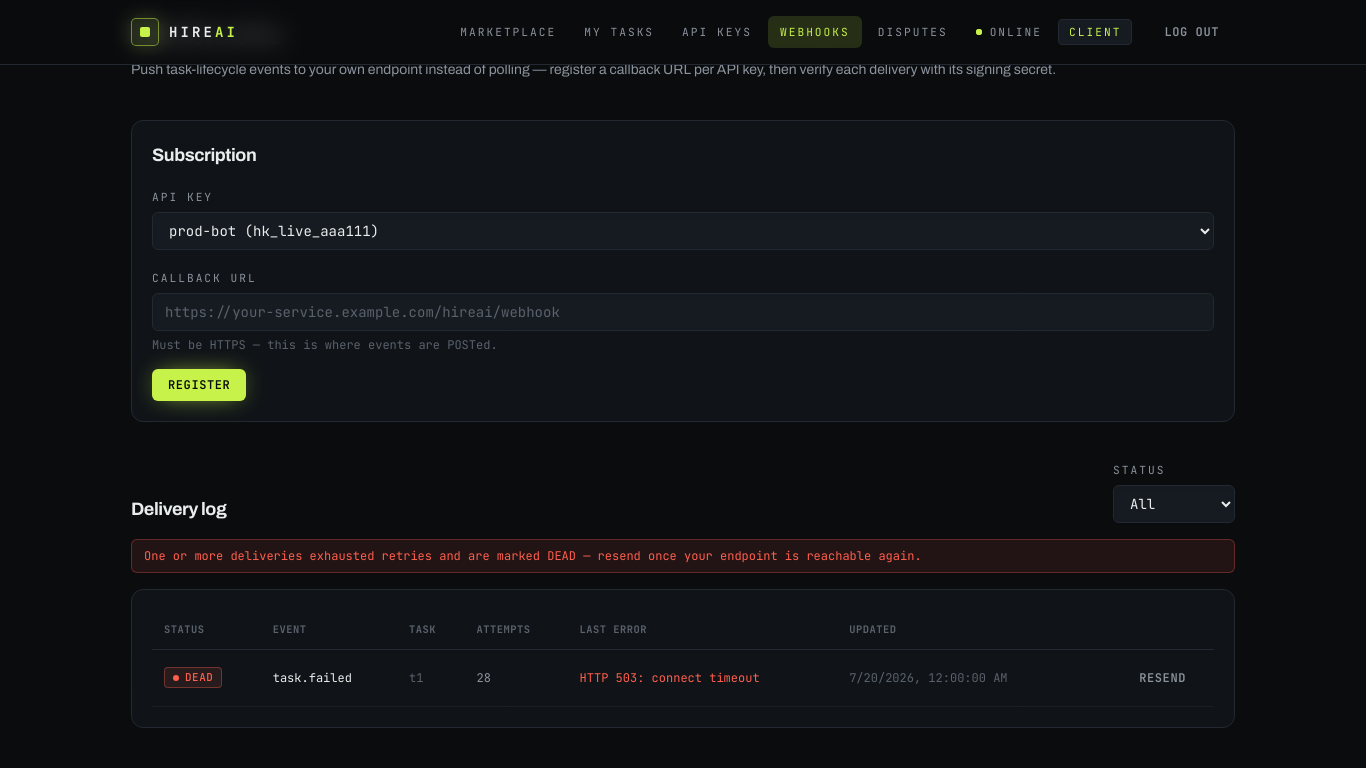
Scenario: WebhooksPage › clicking Resend redelivers a DEAD row and reflects PENDING once the log reloads
(page scrolled)
Expected: the text "DEAD" is shown, x1=164 y1=667 x2=222 y2=688
Step 1. Click the button "Resend" → point(1163, 678), box x1=1123 y1=662 x2=1202 y2=694
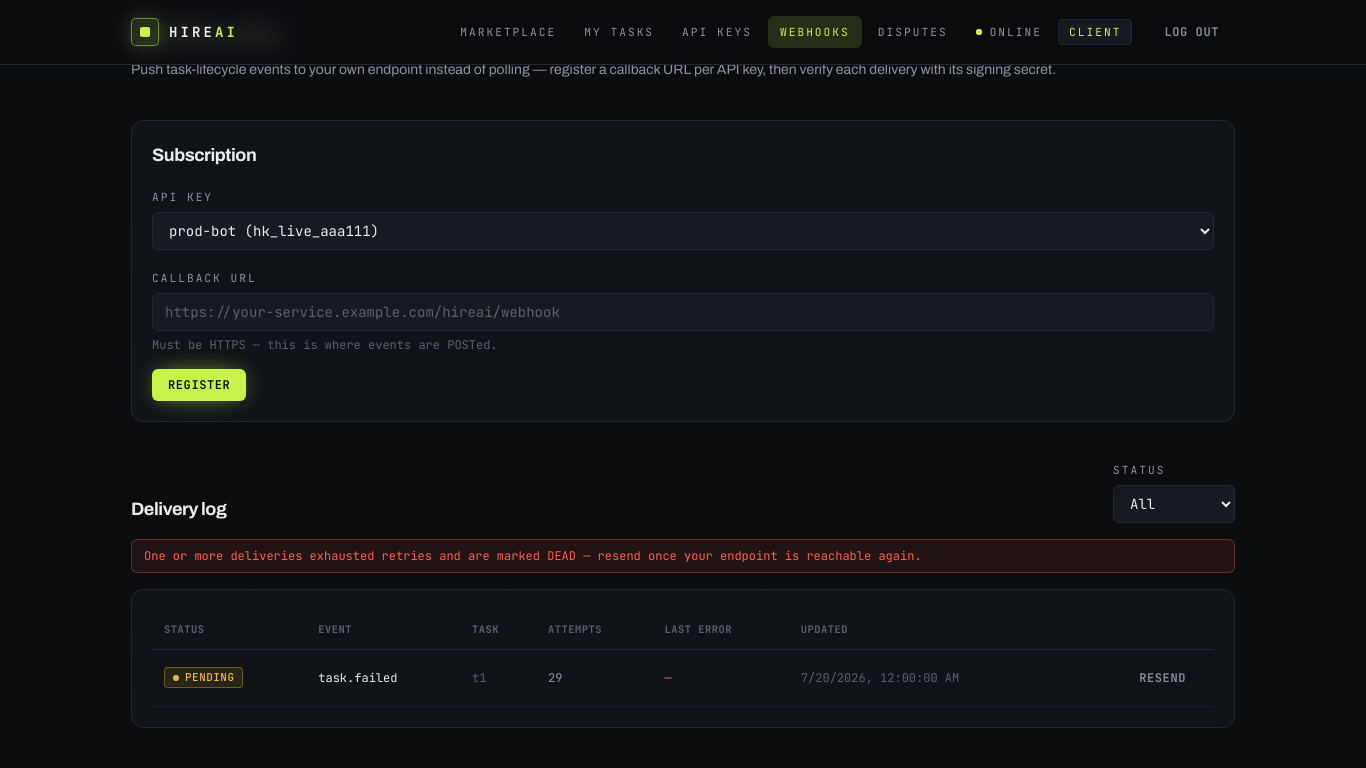
Now the text "PENDING" is shown, box x1=164 y1=667 x2=244 y2=688
